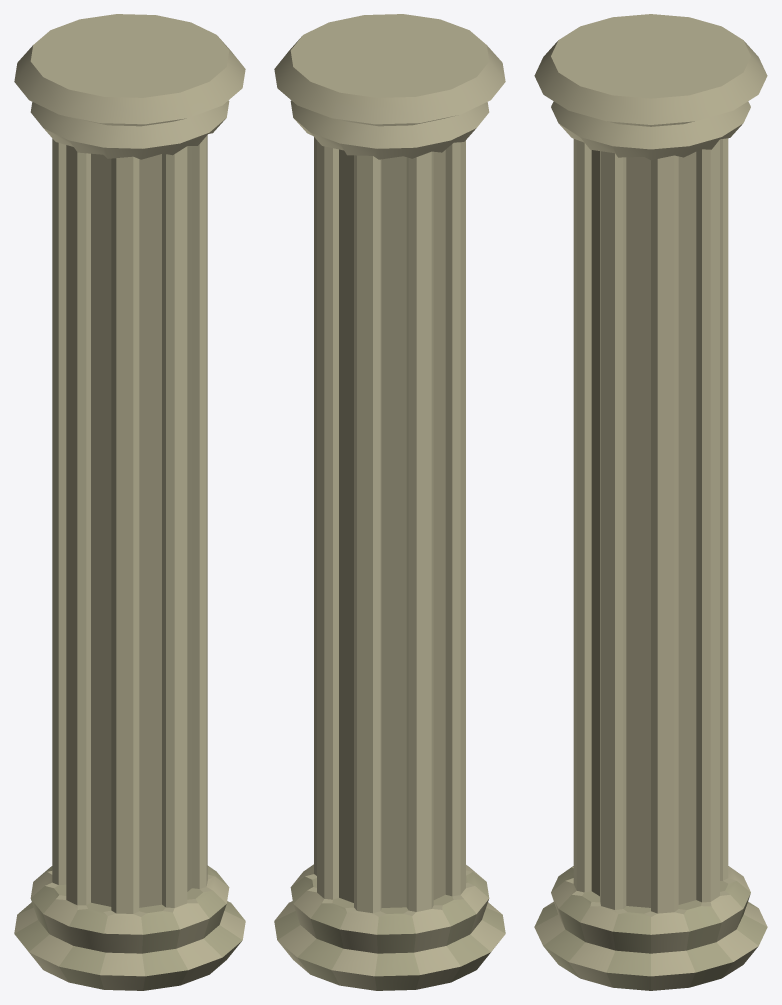
Rendered from PILONE.fbx.
3 views of the same model, side by side, from view 1: azimuth 30°, elevation 25°; view 2: azimuth 150°, elevation 25°; view 3: azimuth 270°, elevation 25° (orthographic).
Visible parts, largest first — view 1: pilier; view 2: pilier; view 3: pilier.
Part boxes in pixels (bbox=[...]): pilier: bbox=[14, 14, 245, 990]; pilier: bbox=[274, 14, 505, 990]; pilier: bbox=[534, 14, 767, 990].
Bounding box in the file's own units: 296 × 1249 × 296.
